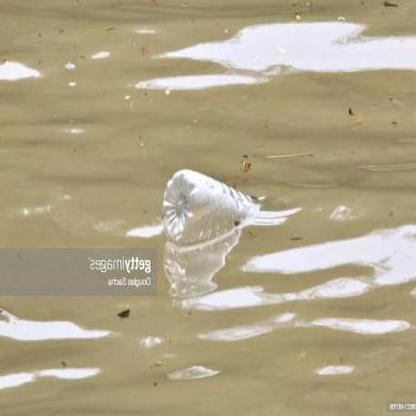plastic bottle: (160, 169, 264, 241)
